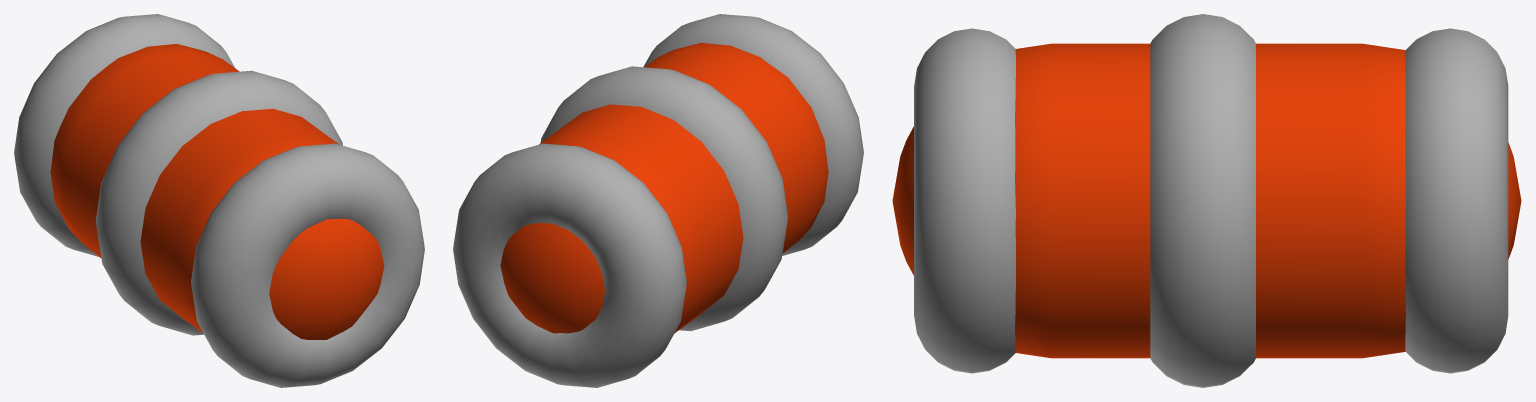
Rendered from Lamp.fbx.
3 renders of one model, left to right at view 1: azimuth 30°, elevation 25°; view 2: azimuth 150°, elevation 25°; view 3: azimuth 270°, elevation 25°, orthographic. The views are drawn at different scales.
Parts seen in each view (by area): view 1: pCube1, pasted__pasted__pasted__pTorus1, pasted__pTorus1, pasted__pasted__pTorus1; view 2: pCube1, pasted__pasted__pTorus1, pasted__pTorus1, pasted__pasted__pasted__pTorus1; view 3: pCube1, pasted__pTorus1, pasted__pasted__pTorus1, pasted__pasted__pasted__pTorus1.
Boxes of the visible parts, bbox=[...] form: pCube1: bbox=[50, 44, 384, 339]; pasted__pasted__pasted__pTorus1: bbox=[191, 143, 424, 387]; pasted__pTorus1: bbox=[95, 70, 342, 335]; pasted__pasted__pTorus1: bbox=[14, 14, 234, 256]; pCube1: bbox=[500, 42, 828, 333]; pasted__pasted__pTorus1: bbox=[453, 143, 686, 387]; pasted__pTorus1: bbox=[540, 66, 787, 331]; pasted__pasted__pasted__pTorus1: bbox=[643, 14, 863, 255]; pCube1: bbox=[892, 43, 1521, 358]; pasted__pTorus1: bbox=[1150, 14, 1255, 387]; pasted__pasted__pTorus1: bbox=[1405, 28, 1508, 373]; pasted__pasted__pasted__pTorus1: bbox=[914, 28, 1015, 373].
Size of the model in its own units: 1.19 by 1.19 by 1.99.
